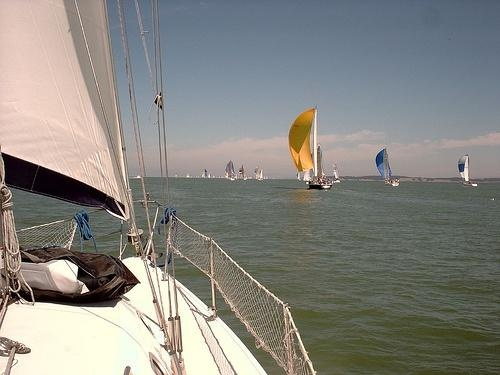boat: (2, 1, 312, 375), (289, 106, 338, 192), (375, 144, 403, 188), (458, 154, 480, 190)
